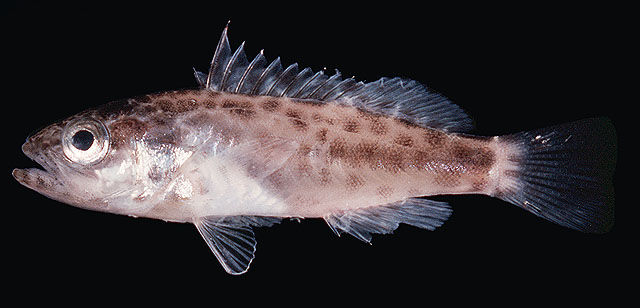fish: (11, 19, 595, 277)
